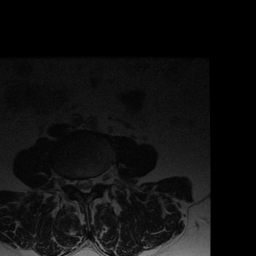CCS_normal: (80, 171, 88, 201)
LFS_normal: (94, 169, 103, 191)
LLS_normal: (88, 172, 94, 194)
RFS_normal: (66, 169, 75, 192)
RLS_stenosis: (74, 171, 81, 194)
